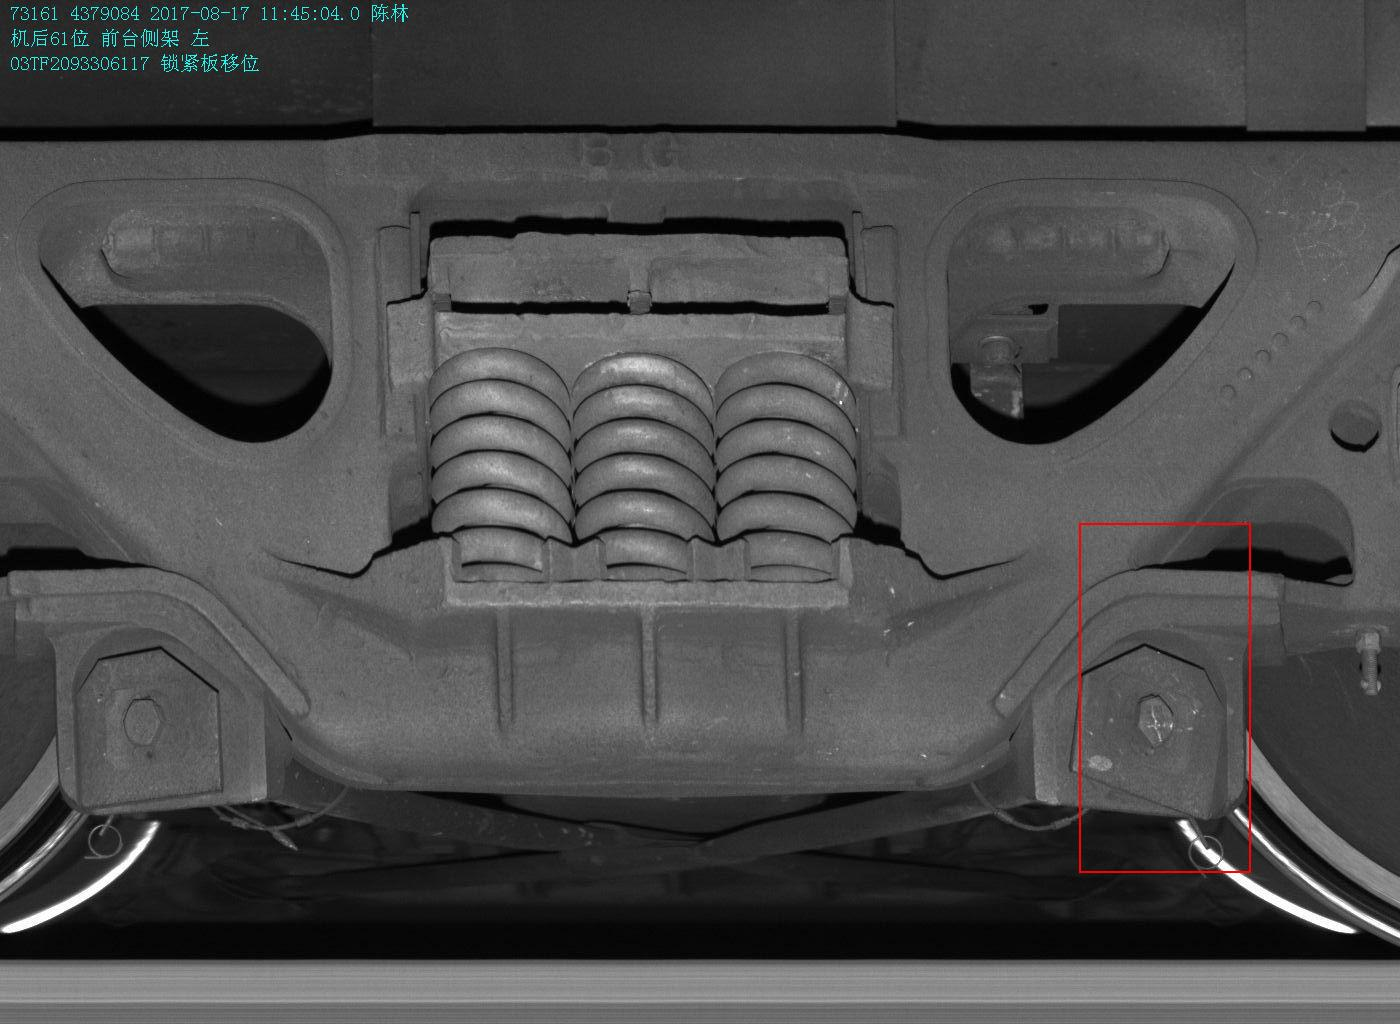Locking plate: (1037, 630, 1247, 821)
normal: (55, 623, 268, 817)
